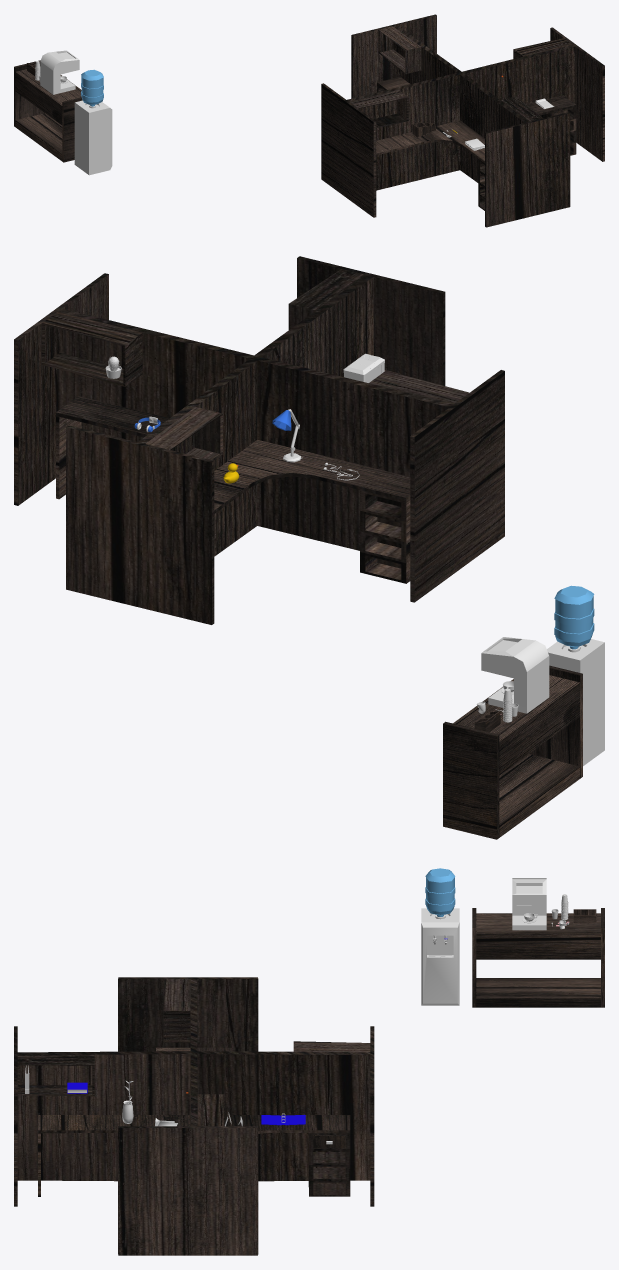
File: CubicalRoom.fbx
3 renders of one model, top to bottom at view 1: azimuth 30°, elevation 25°; view 2: azimuth 150°, elevation 25°; view 3: azimuth 270°, elevation 25°, orthographic. The views are drawn at different scales.
Visible parts, largest first — view 1: CubicalWalls, CoffeeTable, WaterCooler, CoffeeMachine; view 2: CubicalWalls, CoffeeTable, WaterCooler, CoffeeMachine, PrinterScanner; view 3: CubicalWalls, CoffeeTable, WaterCooler, CoffeeMachine.
Part boxes in pixels (x1,y1,x2,y2): CubicalWalls: (321,14,604,227); CoffeeTable: (14,60,82,162); WaterCooler: (74,69,112,175); CoffeeMachine: (40,50,79,94); CubicalWalls: (14,256,504,624); CoffeeTable: (443,665,582,839); WaterCooler: (547,585,604,765); CoffeeMachine: (481,637,549,713); PrinterScanner: (343,353,384,382); CubicalWalls: (14,977,374,1255); CoffeeTable: (472,908,604,1007); WaterCooler: (421,868,459,1005); CoffeeMachine: (512,878,546,930).
Size of the model in its own units: 904 by 202 by 848.
